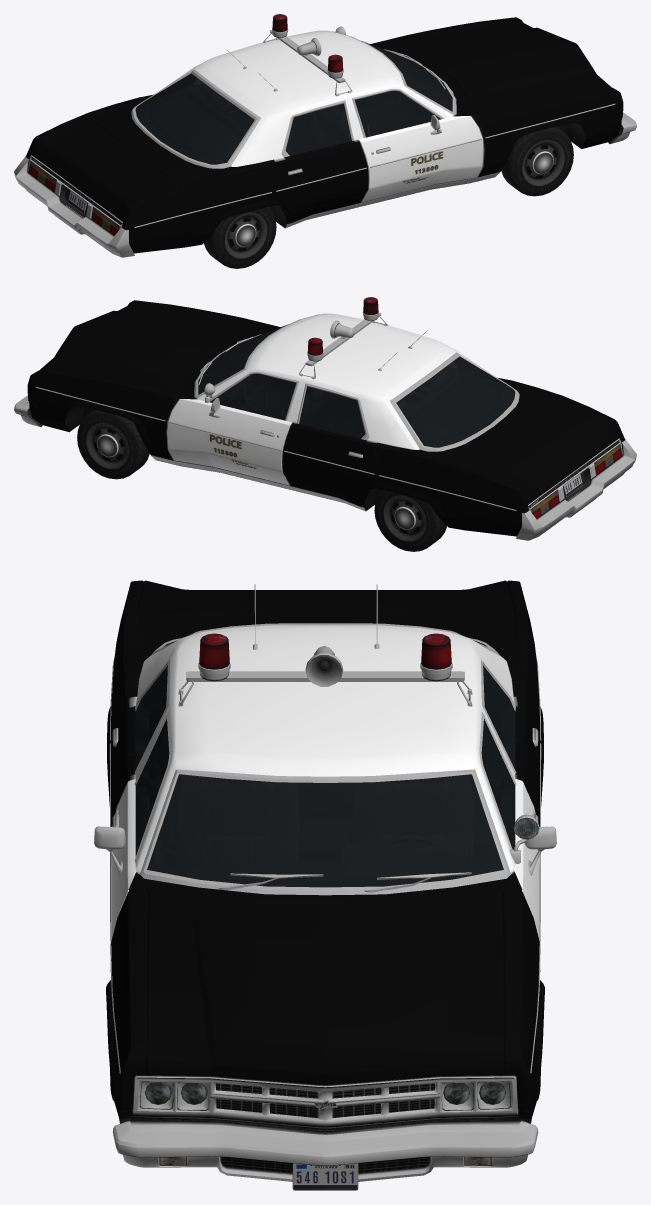
File: cop.glb
The picture shows the model from 3 angles, top to bottom: view 1: azimuth 30°, elevation 25°; view 2: azimuth 150°, elevation 25°; view 3: azimuth 270°, elevation 25°; orthographic projection. The views are drawn at different scales.
Visible parts, largest first — view 1: Chapman73_Body_Chapman73_Bodymat_0, Chapman73_Interior_UCB_Interiors_2_0, Chapman73_Hood_Chapman73_Bodymat_0, Chapman73_Trunk_Door_Chapman73_Bodymat_0, Chapman73_Bottom_UCB_BOTTOM_LT_0, Chapman73_Glass_Rear_UCB_Lights_and_Glass_Transperent_0, Chapman73_WheelStock_FR_RB1c_Tire_1k_0, Chapman73_WheelStock_RR_RB1c_Tire_1k_0, Chapman73_Bumper_Rear_UCB_BOTTOM_LT_0, Chapman73_Glass_Passenger_UCB_Lights_and_Glass_Transperent_0, Chapman73_Glass_Body_UCB_Lights_and_Glass_Transperent_0, Chapman73_Windshield_UCB_Lights_and_Glass_Transperent_0 (+3 smaller); view 2: Chapman73_Body_Chapman73_Bodymat_0, Chapman73_Interior_UCB_Interiors_2_0, Chapman73_Hood_Chapman73_Bodymat_0, Chapman73_Trunk_Door_Chapman73_Bodymat_0, Chapman73_Bottom_UCB_BOTTOM_LT_0, Chapman73_Glass_Rear_UCB_Lights_and_Glass_Transperent_0, Chapman73_WheelStock_FL_RB1c_Tire_1k_0, Chapman73_WheelStock_RL_RB1c_Tire_1k_0, Chapman73_Bumper_Rear_UCB_BOTTOM_LT_0, Chapman73_Glass_Driver_UCB_Lights_and_Glass_Transperent_0, Chapman73_Glass_Body_UCB_Lights_and_Glass_Transperent_0, Chapman73_Windshield_UCB_Lights_and_Glass_Transperent_0 (+3 smaller); view 3: Chapman73_Body_Chapman73_Bodymat_0, Chapman73_Hood_Chapman73_Bodymat_0, Chapman73_Interior_UCB_Interiors_2_0, Chapman73_Windshield_UCB_Lights_and_Glass_Transperent_0, Chapman73_Bottom_UCB_BOTTOM_LT_0, Chapman73_Bumper_Front_UCB_BOTTOM_LT_0, Chapman73_Trunk_Door_Chapman73_Bodymat_0, Chapman73_Lightbar_UCB_BOTTOM_LT_0, Chapman73_Glass_Body_UCB_Lights_and_Glass_Transperent_0, Chapman73_Glass_Passenger_UCB_Lights_and_Glass_Transperent_0, Chapman73_Headlights_UCB_Lights_and_Glass_0, Chapman73_Glass_Driver_UCB_Lights_and_Glass_Transperent_0 (+3 smaller).
Boxes of the visible parts, x1=… form: Chapman73_Body_Chapman73_Bodymat_0: x1=25, y1=17, x2=623, y2=253; Chapman73_Interior_UCB_Interiors_2_0: x1=136, y1=50, x2=451, y2=163; Chapman73_Hood_Chapman73_Bodymat_0: x1=383, y1=20, x2=610, y2=110; Chapman73_Trunk_Door_Chapman73_Bodymat_0: x1=31, y1=119, x2=179, y2=221; Chapman73_Bottom_UCB_BOTTOM_LT_0: x1=28, y1=31, x2=615, y2=235; Chapman73_Glass_Rear_UCB_Lights_and_Glass_Transperent_0: x1=135, y1=73, x2=254, y2=164; Chapman73_WheelStock_FR_RB1c_Tire_1k_0: x1=501, y1=126, x2=573, y2=196; Chapman73_WheelStock_RR_RB1c_Tire_1k_0: x1=204, y1=207, x2=276, y2=268; Chapman73_Bumper_Rear_UCB_BOTTOM_LT_0: x1=14, y1=156, x2=134, y2=257; Chapman73_Glass_Passenger_UCB_Lights_and_Glass_Transperent_0: x1=355, y1=91, x2=440, y2=137; Chapman73_Glass_Body_UCB_Lights_and_Glass_Transperent_0: x1=194, y1=79, x2=351, y2=155; Chapman73_Windshield_UCB_Lights_and_Glass_Transperent_0: x1=362, y1=41, x2=452, y2=111; Chapman73_Body_Chapman73_Bodymat_0: x1=27, y1=300, x2=625, y2=536; Chapman73_Interior_UCB_Interiors_2_0: x1=199, y1=333, x2=514, y2=446; Chapman73_Hood_Chapman73_Bodymat_0: x1=40, y1=303, x2=267, y2=393; Chapman73_Trunk_Door_Chapman73_Bodymat_0: x1=471, y1=402, x2=619, y2=504; Chapman73_Bottom_UCB_BOTTOM_LT_0: x1=35, y1=314, x2=622, y2=518; Chapman73_Glass_Rear_UCB_Lights_and_Glass_Transperent_0: x1=396, y1=356, x2=515, y2=447; Chapman73_WheelStock_FL_RB1c_Tire_1k_0: x1=77, y1=409, x2=149, y2=479; Chapman73_WheelStock_RL_RB1c_Tire_1k_0: x1=374, y1=490, x2=446, y2=551; Chapman73_Bumper_Rear_UCB_BOTTOM_LT_0: x1=516, y1=439, x2=636, y2=540; Chapman73_Glass_Driver_UCB_Lights_and_Glass_Transperent_0: x1=210, y1=374, x2=295, y2=420; Chapman73_Glass_Body_UCB_Lights_and_Glass_Transperent_0: x1=299, y1=362, x2=456, y2=438; Chapman73_Windshield_UCB_Lights_and_Glass_Transperent_0: x1=198, y1=324, x2=288, y2=394; Chapman73_Body_Chapman73_Bodymat_0: x1=106, y1=580, x2=544, y2=1119; Chapman73_Hood_Chapman73_Bodymat_0: x1=146, y1=895, x2=504, y2=1084; Chapman73_Interior_UCB_Interiors_2_0: x1=136, y1=642, x2=514, y2=886; Chapman73_Windshield_UCB_Lights_and_Glass_Transperent_0: x1=147, y1=774, x2=503, y2=887; Chapman73_Bottom_UCB_BOTTOM_LT_0: x1=94, y1=623, x2=556, y2=1131; Chapman73_Bumper_Front_UCB_BOTTOM_LT_0: x1=112, y1=1120, x2=538, y2=1181; Chapman73_Trunk_Door_Chapman73_Bodymat_0: x1=136, y1=580, x2=514, y2=616; Chapman73_Lightbar_UCB_BOTTOM_LT_0: x1=178, y1=646, x2=472, y2=706; Chapman73_Glass_Body_UCB_Lights_and_Glass_Transperent_0: x1=135, y1=665, x2=515, y2=769; Chapman73_Glass_Passenger_UCB_Lights_and_Glass_Transperent_0: x1=135, y1=719, x2=169, y2=856; Chapman73_Headlights_UCB_Lights_and_Glass_0: x1=145, y1=1082, x2=505, y2=1104; Chapman73_Glass_Driver_UCB_Lights_and_Glass_Transperent_0: x1=481, y1=719, x2=515, y2=849.
Bounding box in the file's own units: 5.67 × 1.69 × 2.12.
Materials: 8 (8 with a texture image).
